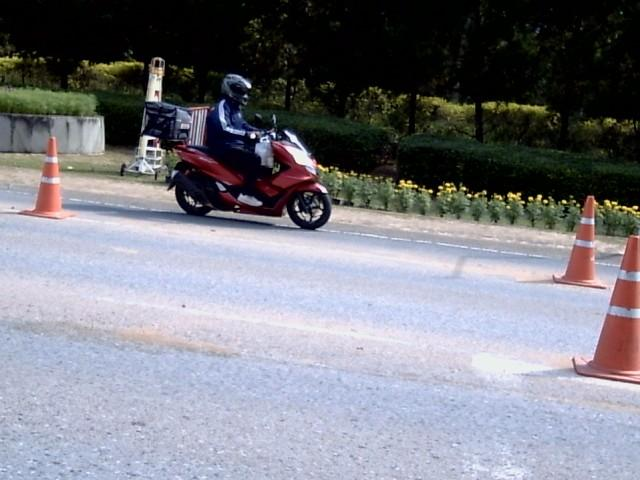helmet: (221, 73, 250, 105)
motor: (145, 103, 330, 228)
person: (206, 74, 261, 205)
